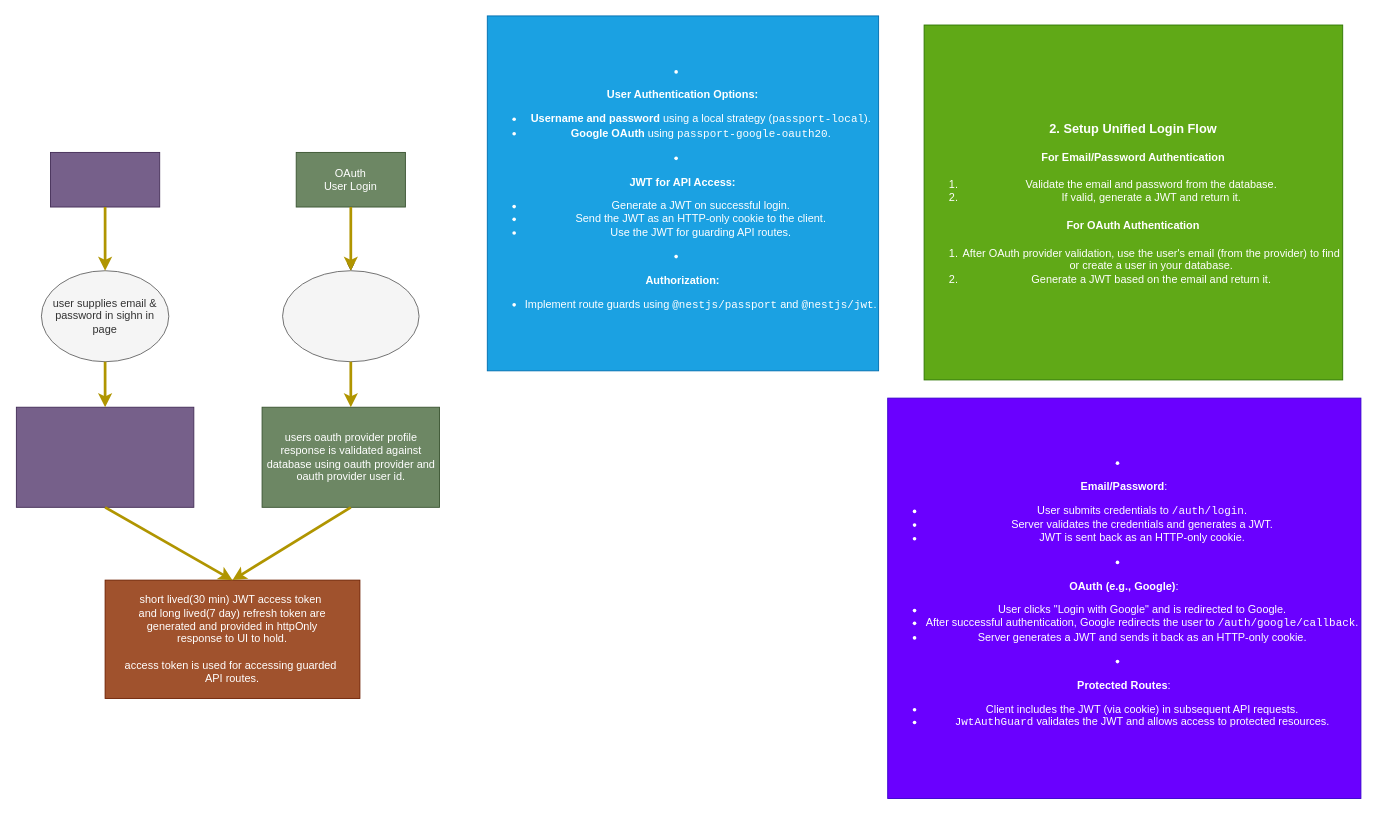
Image size: 1377x814. Some labels were removed from this diagram. Each missing label, with the centre of its shape:
Email/Password User Login: point (105, 179)
user clicks oauth provider button: point (350, 316)
User email and hashed password is validated against database.: point (104, 456)
